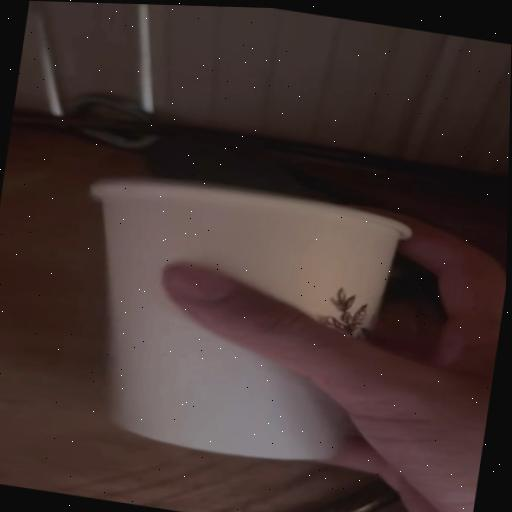Ly_giay: (92, 180, 411, 461)
